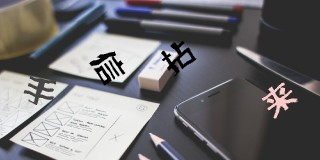信: (89, 51, 126, 85)
手: (23, 75, 56, 105)
拈: (161, 41, 196, 76)
来: (261, 82, 298, 119)
